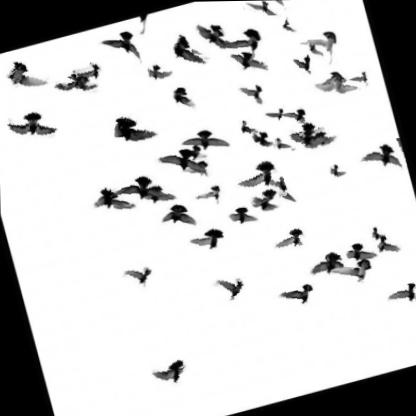bird: (231, 157, 285, 205), (110, 168, 169, 211), (154, 141, 212, 184), (4, 103, 58, 149), (106, 105, 159, 151), (356, 138, 407, 185), (0, 51, 53, 94), (95, 28, 143, 74), (218, 25, 267, 70), (87, 179, 138, 220), (165, 26, 212, 70), (51, 64, 101, 105), (298, 26, 343, 69), (325, 254, 375, 292), (311, 64, 360, 102), (178, 123, 231, 158), (225, 43, 269, 81), (192, 17, 233, 57), (303, 247, 348, 282), (154, 198, 199, 233), (274, 279, 320, 312), (286, 117, 328, 153), (149, 357, 192, 390), (268, 224, 311, 257), (239, 0, 284, 31), (185, 224, 228, 255), (211, 272, 249, 305), (300, 124, 340, 153), (139, 178, 177, 208), (189, 180, 226, 210), (244, 186, 280, 216), (343, 236, 379, 265), (383, 281, 416, 312), (119, 264, 154, 293), (266, 175, 297, 207), (226, 201, 258, 229), (344, 67, 376, 95), (169, 82, 197, 113), (181, 154, 212, 181), (144, 57, 174, 84), (373, 228, 403, 255), (75, 60, 105, 86), (280, 105, 309, 131), (238, 82, 265, 109), (250, 127, 277, 150), (292, 53, 315, 78), (244, 0, 284, 14), (278, 13, 300, 36), (184, 141, 208, 162), (238, 117, 260, 138), (265, 106, 287, 124), (307, 38, 326, 58), (326, 162, 348, 179), (274, 131, 294, 149), (369, 224, 385, 242)
